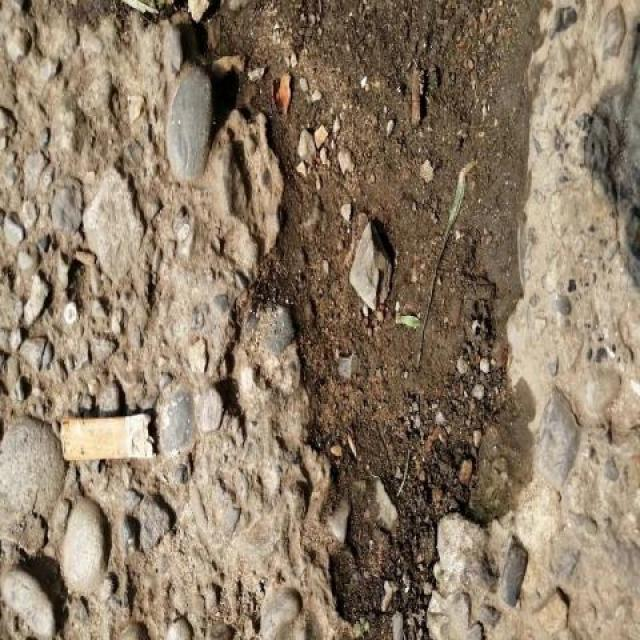non-organic waste: (55, 402, 164, 467)
